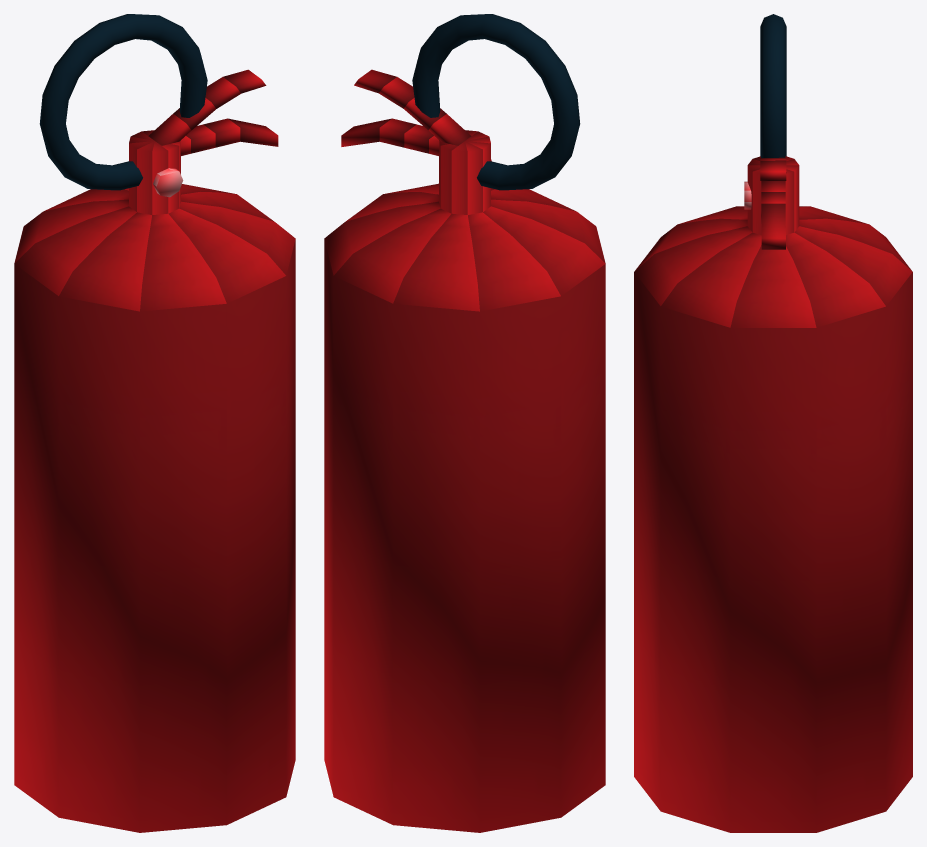
File: Extinguisher.fbx
The picture shows the model from 3 angles, left to right: view 1: azimuth 30°, elevation 25°; view 2: azimuth 150°, elevation 25°; view 3: azimuth 270°, elevation 25°; orthographic projection. The views are drawn at different scales.
Parts seen in each view (by area): view 1: Extinguisher; view 2: Extinguisher; view 3: Extinguisher.
Part boxes in pixels (<box>): Extinguisher: <box>14,14,295,832</box>; Extinguisher: <box>324,14,605,832</box>; Extinguisher: <box>634,14,912,832</box>.
Size of the model in its own units: 0.3605 by 1.11 by 0.3791.
